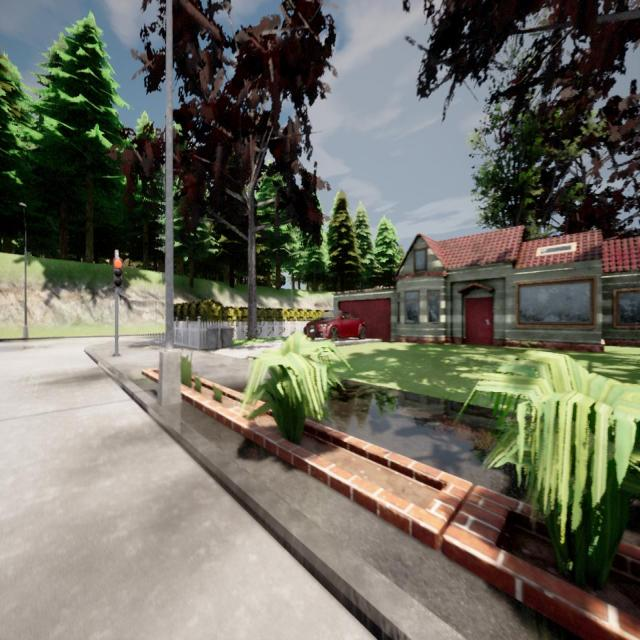Vehicle: (304, 310, 366, 340)
traffic_light: (113, 258, 123, 288)
